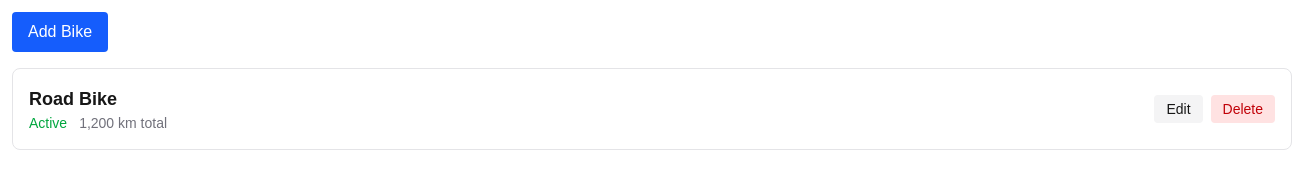
Test: BikeList › deletes a bike via API
Click the button "Delete" at [1243, 109], box [1210,95,1275,123]
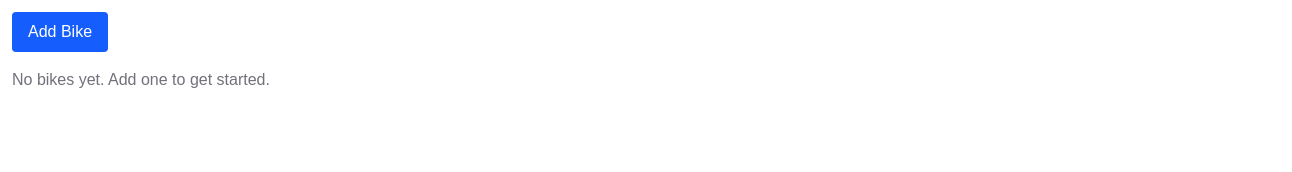
Now the link "Road Bike" is gone
